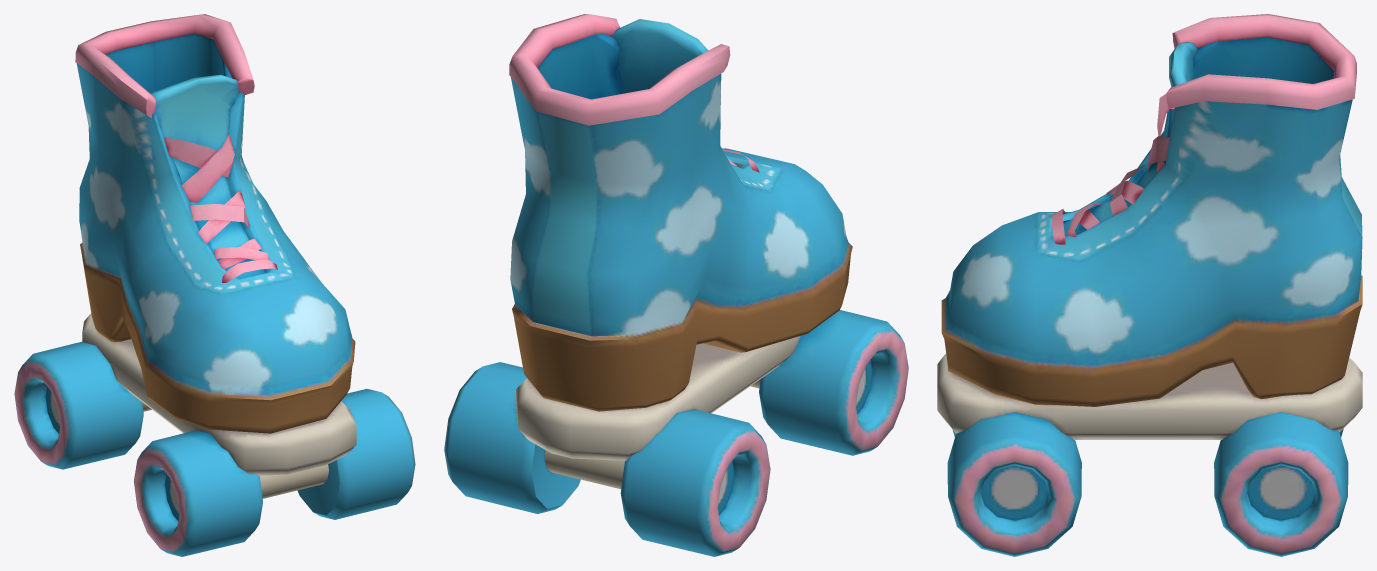
Rendered from 0-rollerskate_blue.fbx.
3 views of the same model, side by side, from view 1: azimuth 30°, elevation 25°; view 2: azimuth 150°, elevation 25°; view 3: azimuth 270°, elevation 25° (orthographic). The views are drawn at different scales.
Parts seen in each view (by area): view 1: 0-rollerskate_blue; view 2: 0-rollerskate_blue; view 3: 0-rollerskate_blue.
Part boxes in pixels (x1,y1,x2,y2): 0-rollerskate_blue: (14,14,415,556); 0-rollerskate_blue: (444,14,908,556); 0-rollerskate_blue: (937,14,1362,556).
Bounding box in the file's own units: 56.04 × 95.28 × 80.96.
